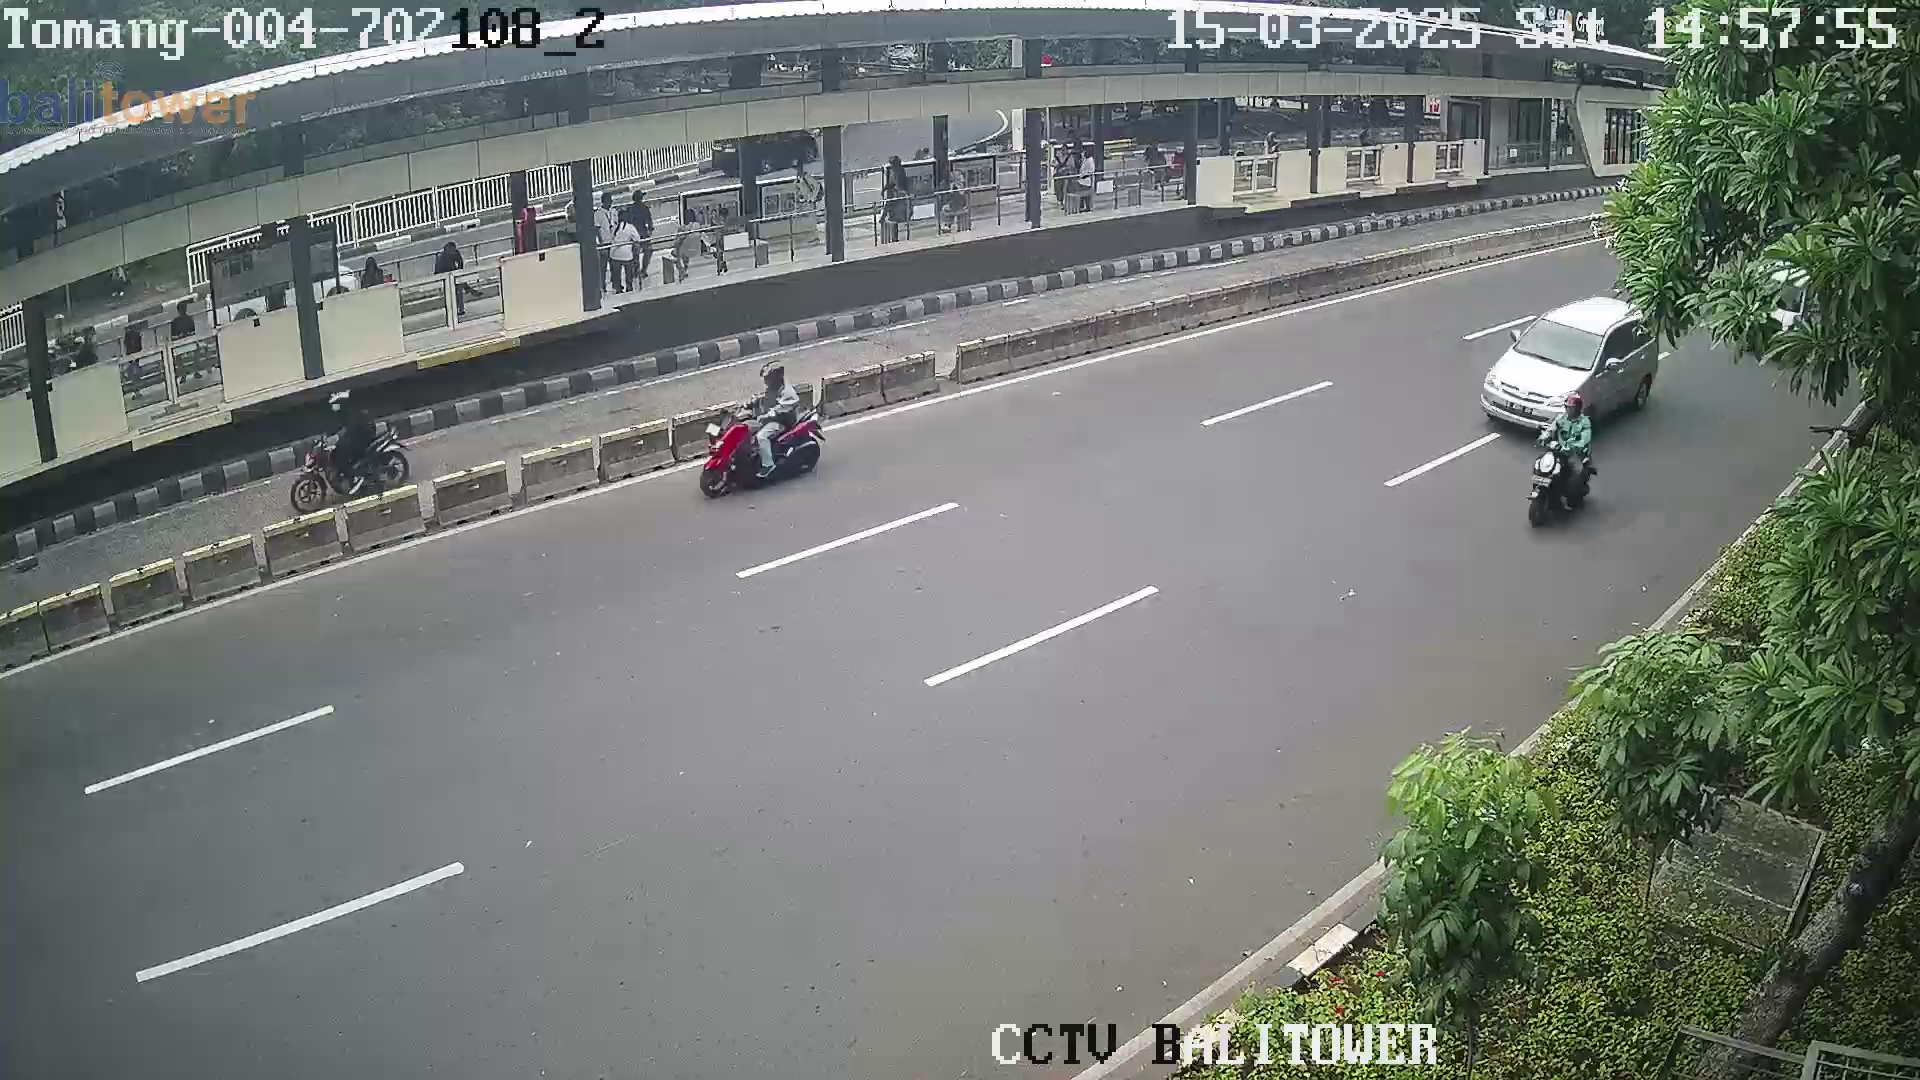half-face helmet: (761, 365, 796, 394), (331, 388, 359, 422), (1565, 392, 1588, 426)
